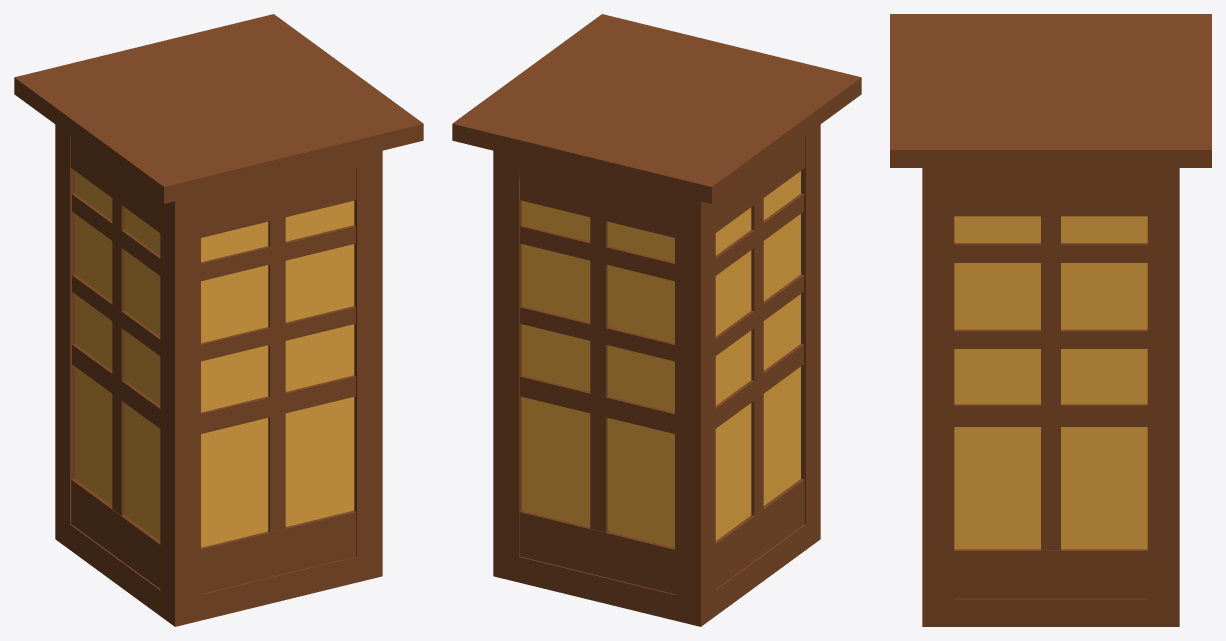
File: Lantern_2.fbx
3 views of the same model, side by side, from view 1: azimuth 30°, elevation 25°; view 2: azimuth 150°, elevation 25°; view 3: azimuth 270°, elevation 25° (orthographic). The views are drawn at different scales.
Visible parts, largest first — view 1: Lantern_2; view 2: Lantern_2; view 3: Lantern_2.
Part boxes in pixels (<box>): Lantern_2: <box>14,14,423,626</box>; Lantern_2: <box>452,14,861,626</box>; Lantern_2: <box>890,14,1211,626</box>.
Bounding box in the file's own units: 47.31 × 79.61 × 47.31.
